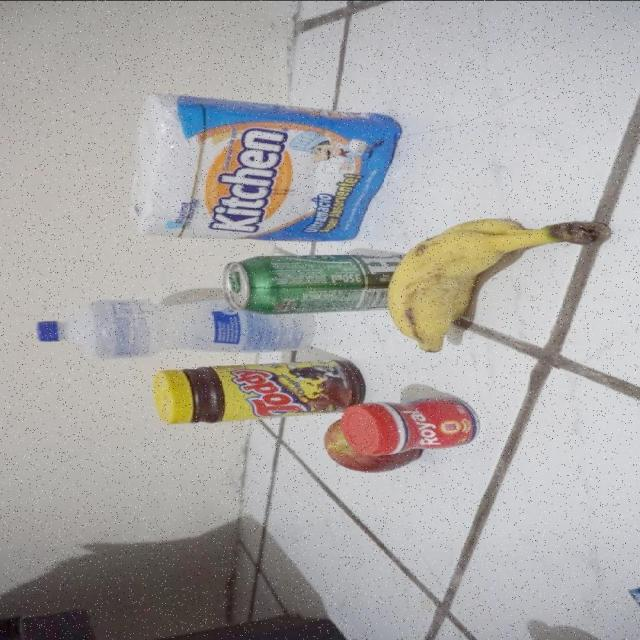AlcoholBottle: (37, 298, 314, 356)
Apple: (322, 416, 422, 472)
Banana: (391, 217, 609, 354)
BeerCan: (222, 255, 400, 313)
ChocolatePowder: (152, 359, 366, 423)
Napkin: (130, 92, 398, 240)
Yeast: (342, 396, 479, 454)
